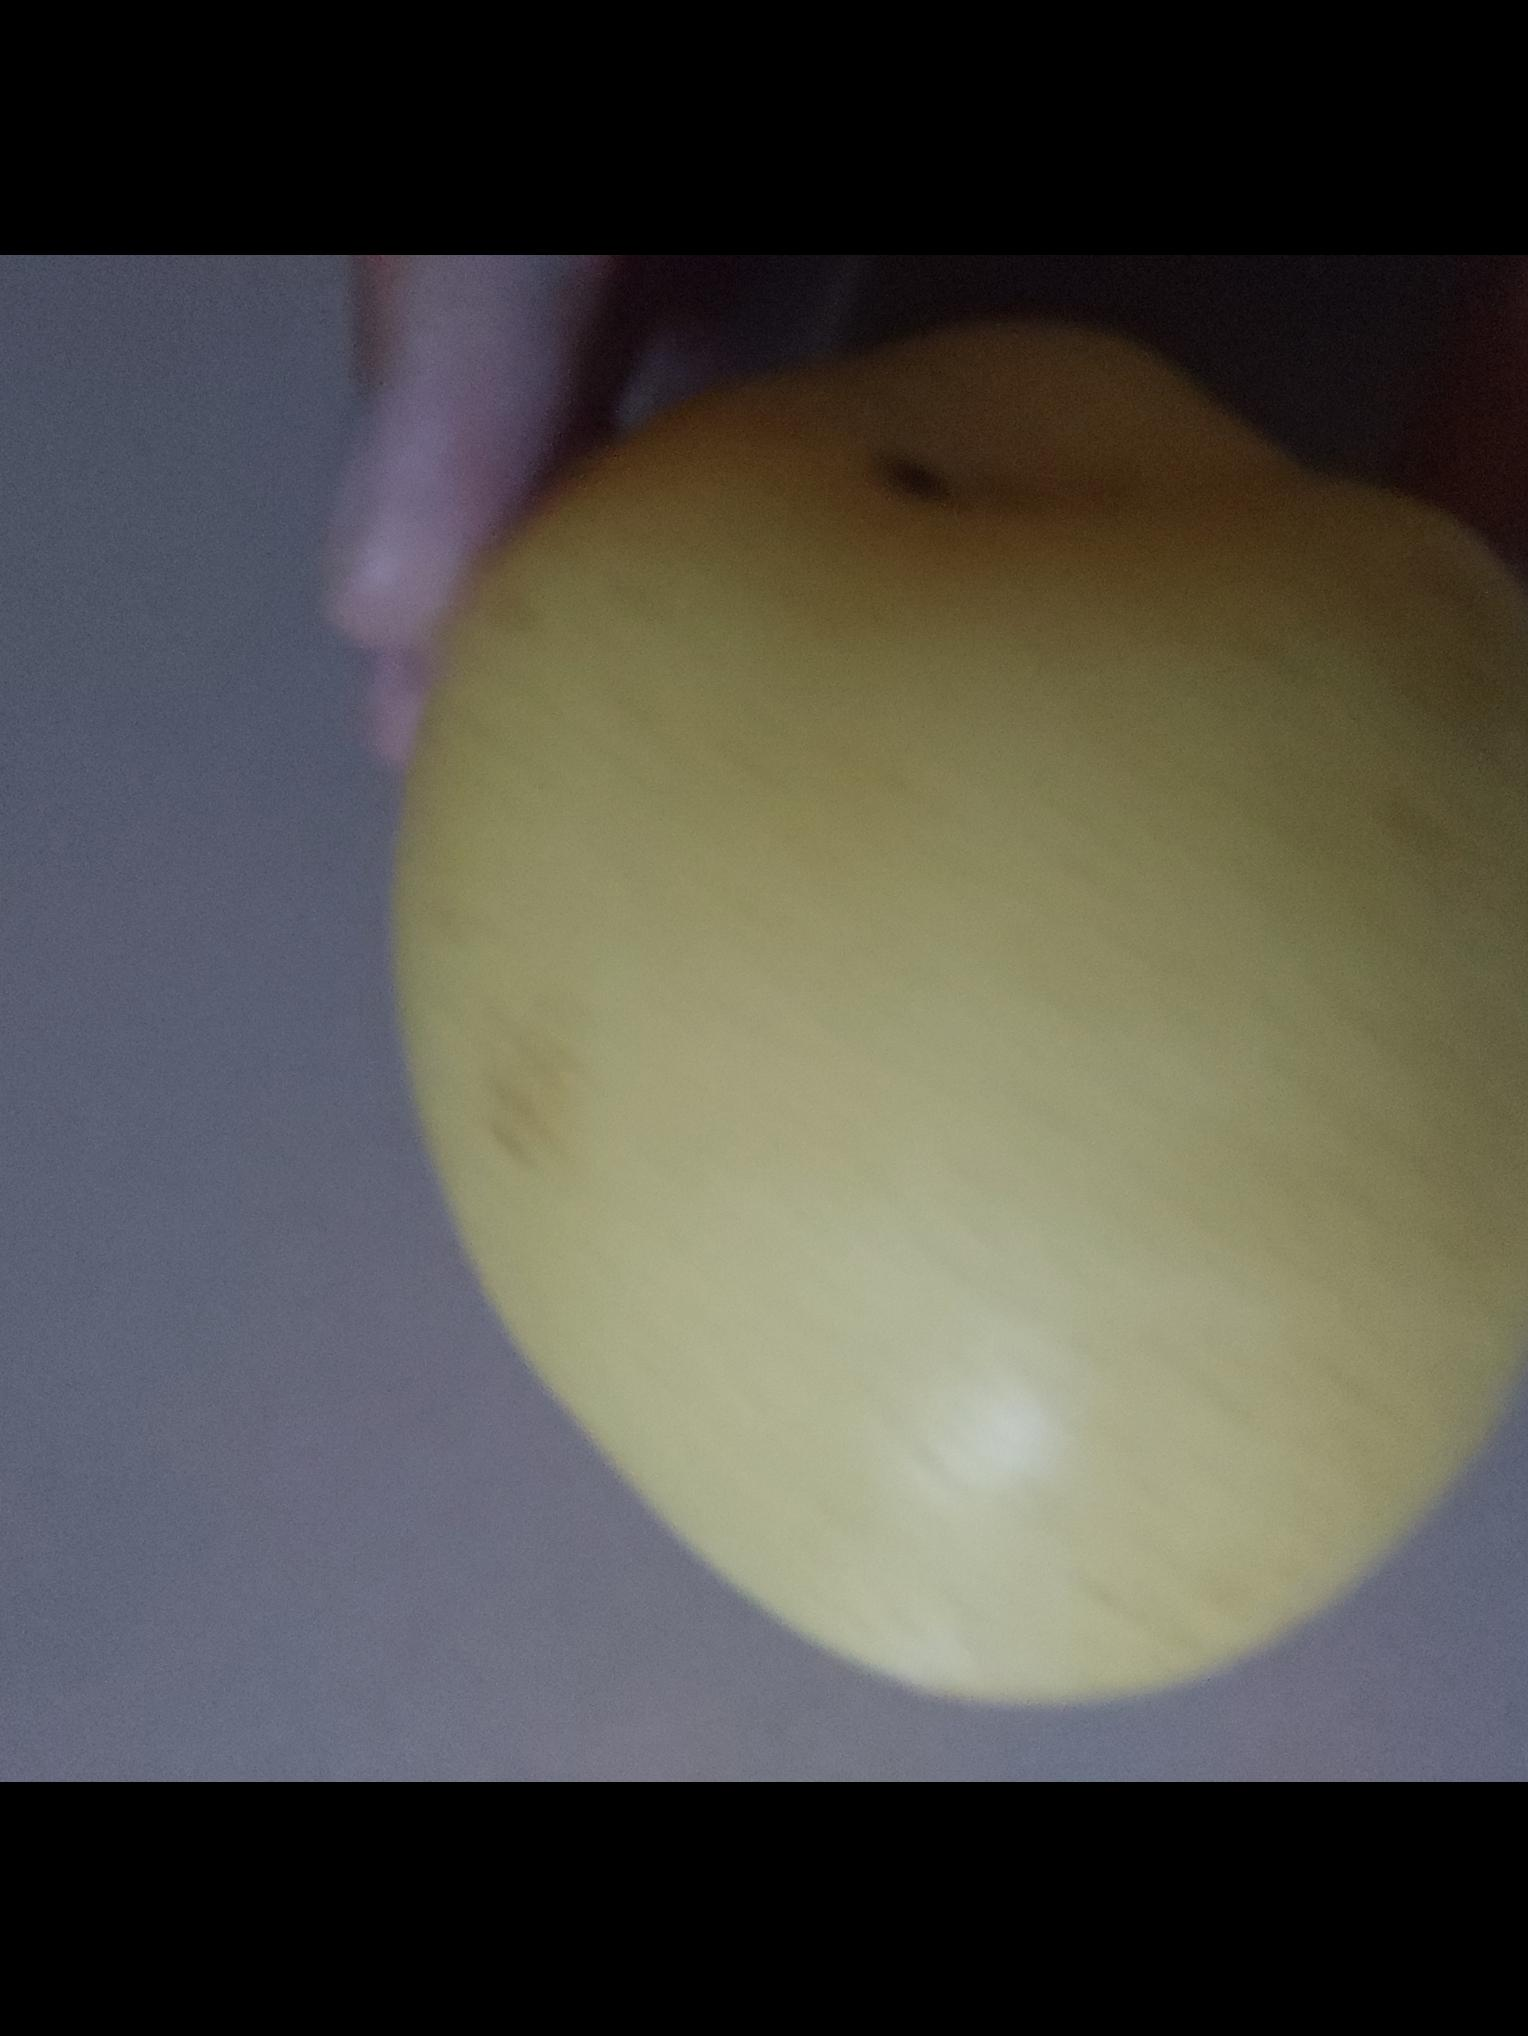Good Pear: (384, 298, 1528, 1717)
